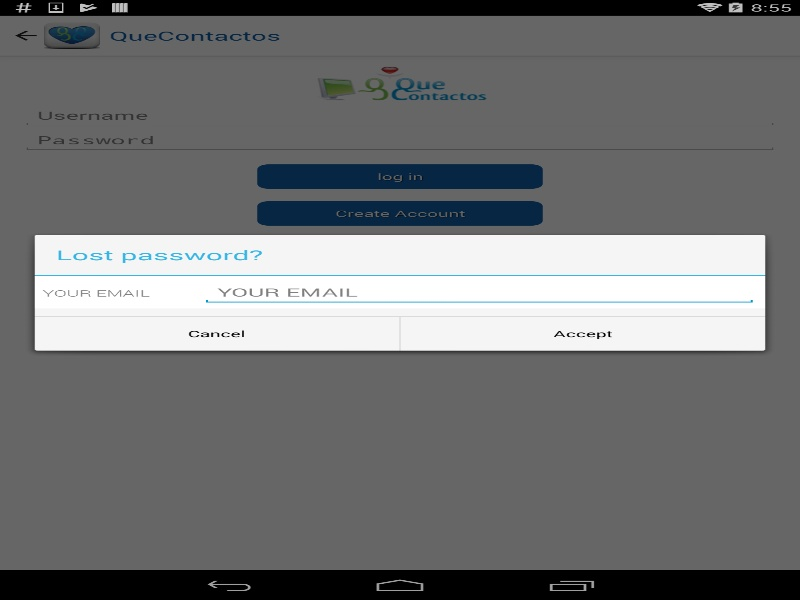Button: (34, 316, 399, 350), (400, 316, 765, 350)
Input: (201, 280, 757, 304)
